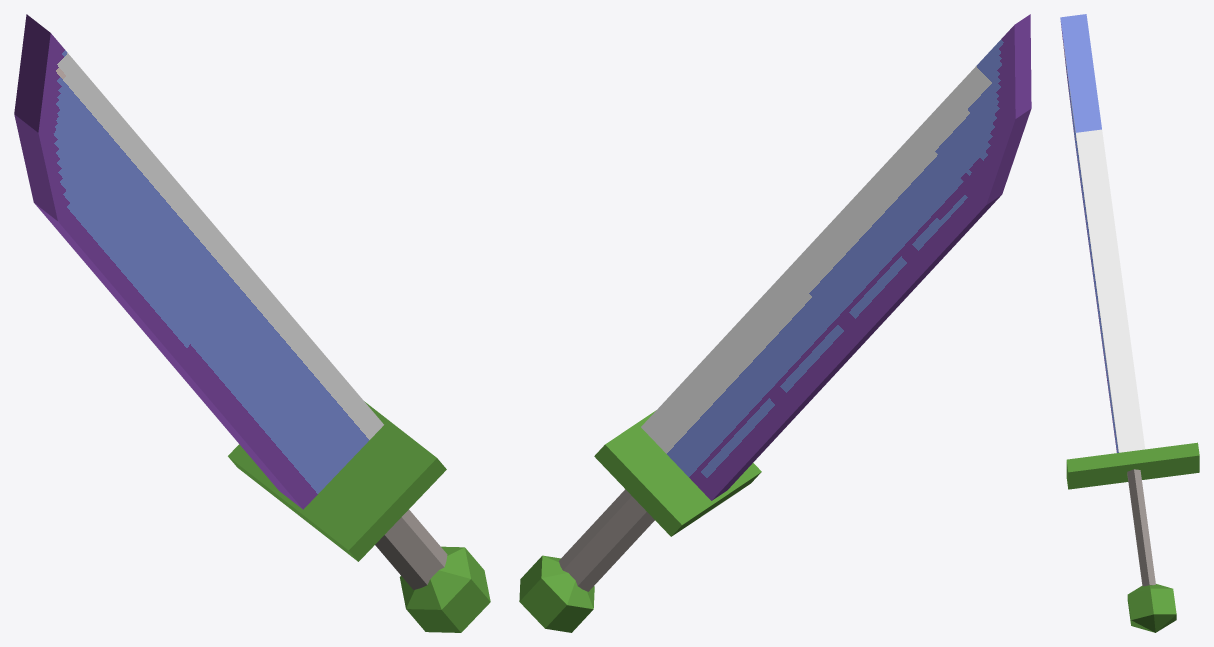
Rendered from PlasmaSwordRightHand.gltf.
3 views of the same model, side by side, from view 1: azimuth 30°, elevation 25°; view 2: azimuth 150°, elevation 25°; view 3: azimuth 270°, elevation 25° (orthographic). The views are drawn at different scales.
Parts seen in each view (by area): view 1: Blade, WristGuard, CounterWeight, Handle; view 2: Blade, WristGuard, Handle, CounterWeight; view 3: Blade, WristGuard, CounterWeight, Handle.
Boxes of the visible parts, bbox=[...] form: Blade: bbox=[14, 14, 383, 509]; WristGuard: bbox=[228, 401, 446, 561]; CounterWeight: bbox=[399, 546, 490, 632]; Handle: bbox=[375, 509, 447, 589]; Blade: bbox=[641, 14, 1031, 500]; WristGuard: bbox=[594, 410, 761, 536]; Handle: bbox=[559, 489, 654, 591]; CounterWeight: bbox=[519, 555, 594, 632]; Blade: bbox=[1060, 14, 1144, 452]; WristGuard: bbox=[1066, 442, 1199, 489]; CounterWeight: bbox=[1127, 584, 1176, 632]; Handle: bbox=[1127, 469, 1155, 586].
Size of the model in its own units: 0.8735 by 1.24 by 0.3287.
Materials: 1 (1 with a texture image).
